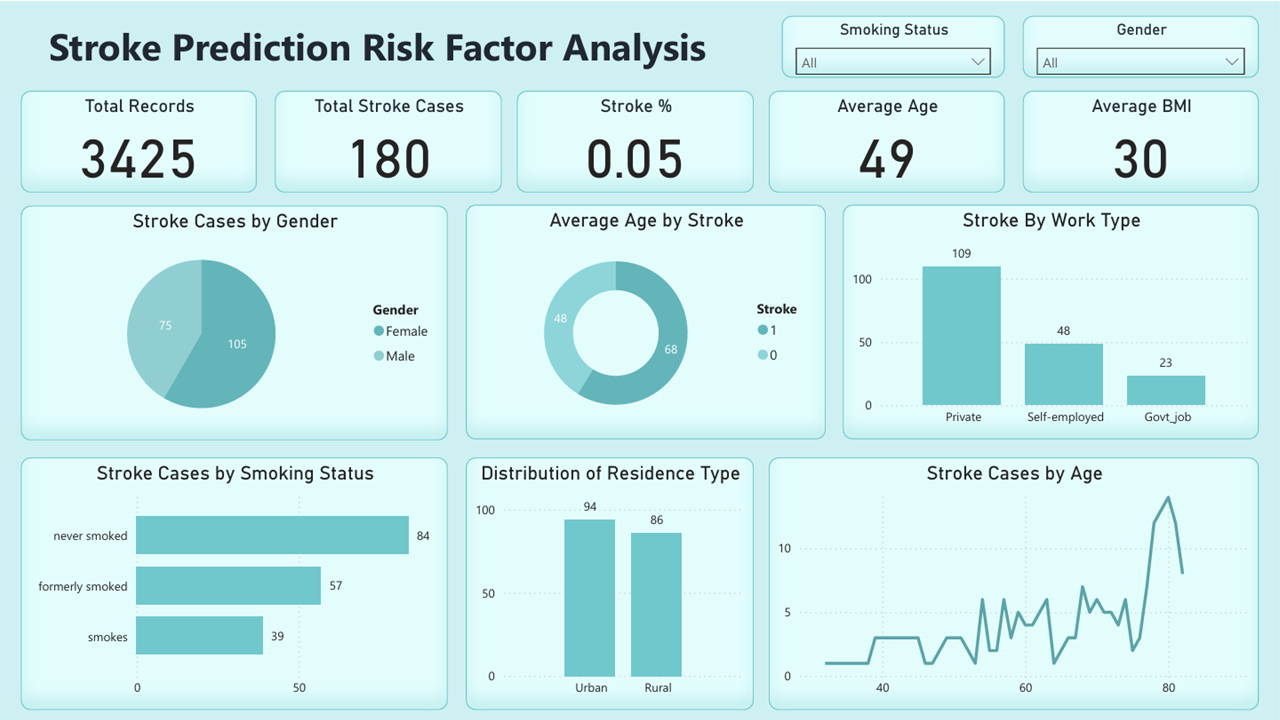

The dashboard page shown, as its layout file describes it:
{"tool":"powerbi","page":{"name":"Page 1","canvas":[1280,720],"ordinal":0},"visuals":[{"type":"textbox","box":[0,13.6,752.6,75.7],"z":0},{"type":"card","title":"Total Records","fields":{"Values":["Count(Stroke Prediction Cleaned.id)"]},"box":[19.7,89.3,236.2,101.5],"z":1},{"type":"card","title":"Total Stroke Cases","fields":{"Values":["Stroke Prediction Cleaned.Total Stroke Cases"]},"box":[274.1,89.3,227.1,101.5],"z":2},{"type":"card","title":"Stroke %","fields":{"Values":["Stroke Prediction Cleaned.Stroke %"]},"box":[516.3,89.3,236.2,101.5],"z":3},{"type":"card","title":"Average Age","fields":{"Values":["Avg(Stroke Prediction Cleaned.age)"]},"box":[767.7,89.3,236.2,101.5],"z":4},{"type":"card","title":"Average BMI","fields":{"Values":["Avg(Stroke Prediction Cleaned.bmi)"]},"box":[1022.1,89.3,236.2,101.5],"z":5},{"type":"pieChart","title":"Stroke Cases by Gender","fields":{"Category":["Stroke Prediction Cleaned.gender"],"Y":["Stroke Prediction Cleaned.Total Stroke Cases"]},"box":[19.7,204.4,427,234.7],"z":6},{"type":"barChart","title":" Stroke Cases by Smoking Status","fields":{"Y":["Stroke Prediction Cleaned.Total Stroke Cases"],"Category":["Stroke Prediction Cleaned.smoking_status"]},"box":[19.7,455.8,427,252.9],"z":7},{"type":"donutChart","title":"Average Age by Stroke","fields":{"Category":["Stroke Prediction Cleaned.stroke"],"Y":["Avg(Stroke Prediction Cleaned.age)"]},"box":[464.9,202.9,360.4,234.7],"z":8},{"type":"columnChart","title":"Stroke By Work Type","fields":{"Category":["Stroke Prediction Cleaned.work_type"],"Y":["Stroke Prediction Cleaned.Total Stroke Cases"]},"box":[841.9,202.9,416.4,234.7],"z":9},{"type":"lineChart","title":"\tStroke Cases by Age","fields":{"Category":["Stroke Prediction Cleaned.age"],"Y":["Stroke Prediction Cleaned.Total Stroke Cases"]},"box":[767.7,455.8,490.6,252.9],"z":10},{"type":"columnChart","title":"\tDistribution of Residence Type","fields":{"Category":["Stroke Prediction Cleaned.residence_type"],"Y":["Stroke Prediction Cleaned.Total Stroke Cases"]},"box":[464.9,455.8,287.7,252.9],"z":11},{"type":"slicer","title":"Smoking Status","fields":{"Values":["Stroke Prediction Cleaned.smoking_status"]},"box":[781.3,13.6,222.6,62.1],"z":12},{"type":"slicer","title":"Gender","fields":{"Values":["Stroke Prediction Cleaned.gender"]},"box":[1022.1,13.6,236.2,62.1],"z":13}]}

Visuals, with their boxes in screenshot pixels (x1, y1, x2, y2), scaled from the page's 1280x720 canvas onto the 1280x720 screenshot:
textbox: [0, 14, 753, 89]
"Total Records" card: [20, 89, 256, 191]
"Total Stroke Cases" card: [274, 89, 501, 191]
"Stroke %" card: [516, 89, 752, 191]
"Average Age" card: [768, 89, 1004, 191]
"Average BMI" card: [1022, 89, 1258, 191]
"Stroke Cases by Gender" pieChart: [20, 204, 447, 439]
" Stroke Cases by Smoking Status" barChart: [20, 456, 447, 709]
"Average Age by Stroke" donutChart: [465, 203, 825, 438]
"Stroke By Work Type" columnChart: [842, 203, 1258, 438]
"	Stroke Cases by Age" lineChart: [768, 456, 1258, 709]
"	Distribution of Residence Type" columnChart: [465, 456, 753, 709]
"Smoking Status" slicer: [781, 14, 1004, 76]
"Gender" slicer: [1022, 14, 1258, 76]
